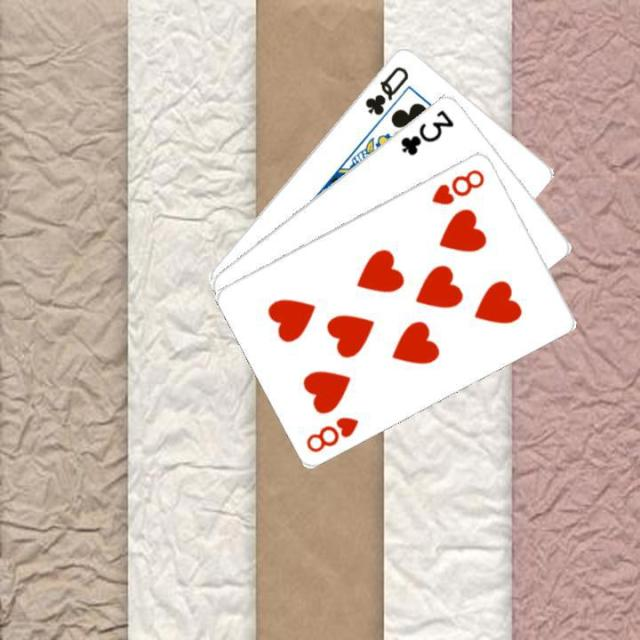3C: (396, 105, 456, 157)
8H: (428, 164, 487, 207), (302, 412, 361, 454)
QC: (361, 61, 411, 118)
